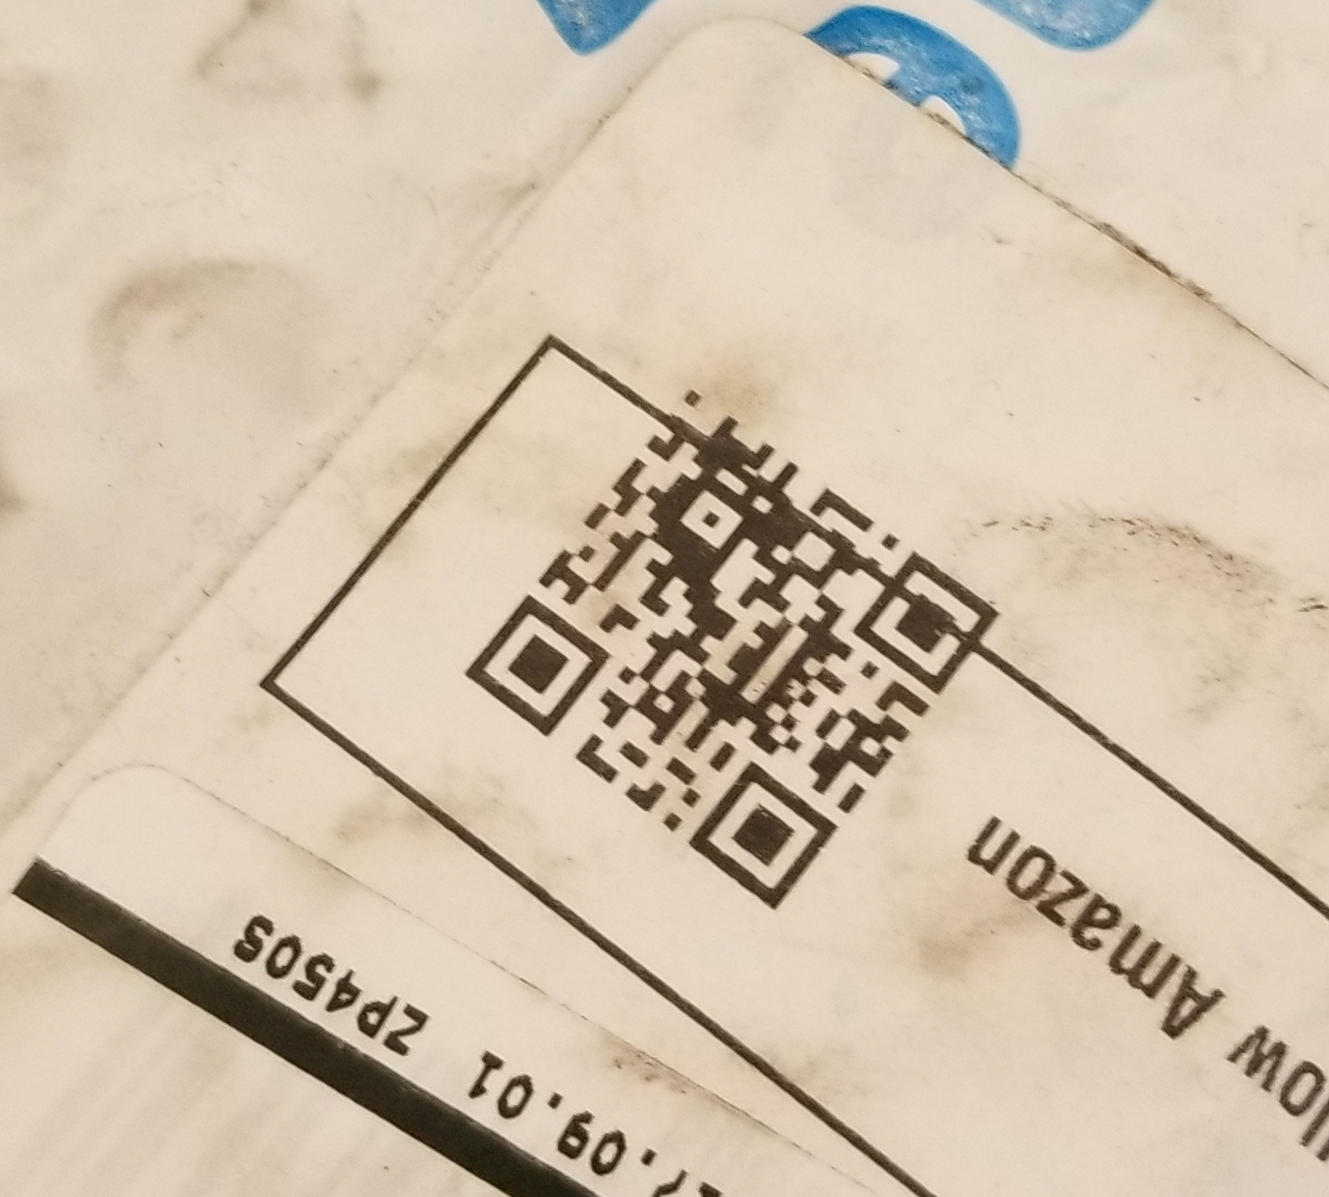QR_CODE: (450, 355, 1018, 930)
